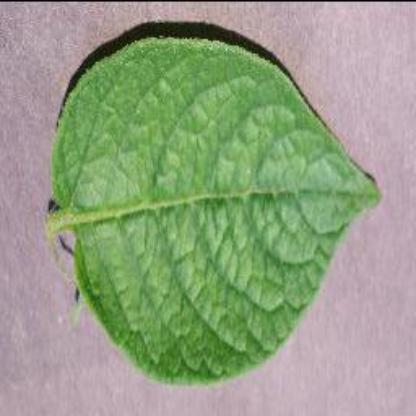Healthy-plant: (39, 26, 385, 392)
